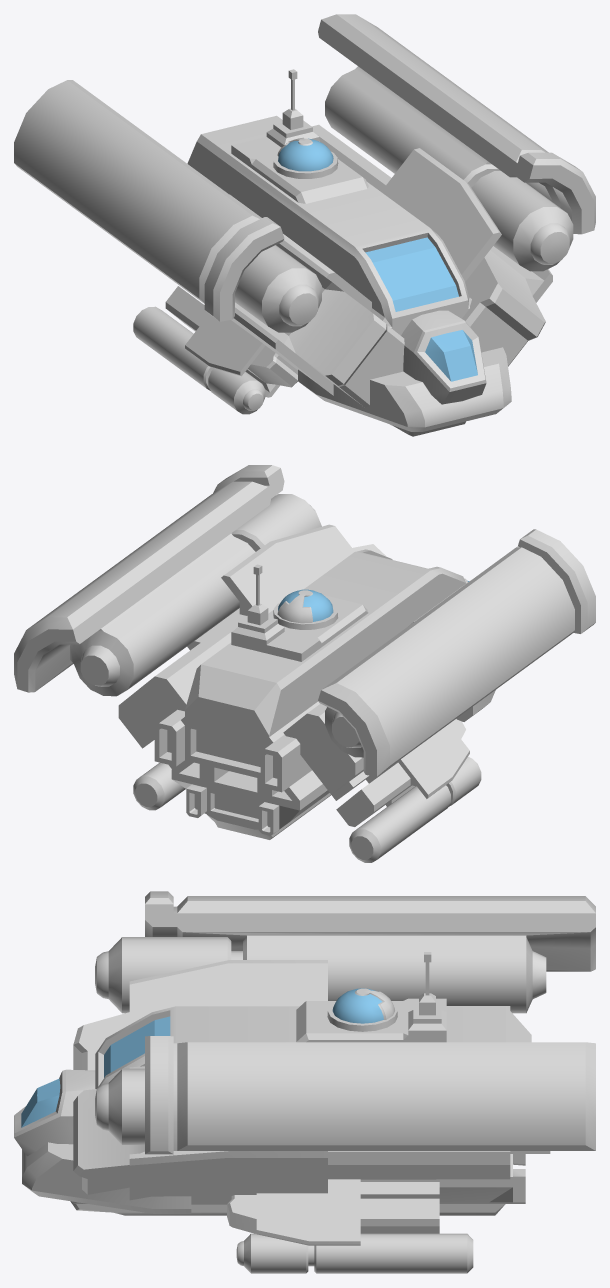
File: low-poly_ship_practice.glb
3 views of the same model, one above another, from view 1: azimuth 30°, elevation 25°; view 2: azimuth 150°, elevation 25°; view 3: azimuth 270°, elevation 25° (orthographic). The views are drawn at different scales.
Parts seen in each view (by area): view 1: Object_3, Object_2; view 2: Object_3, Object_2; view 3: Object_3, Object_2.
Boxes of the visible parts, left/top/right/bottom form: Object_3: left=14, top=14, right=595, bottom=436; Object_2: left=278, top=138, right=477, bottom=381; Object_3: left=14, top=465, right=595, bottom=862; Object_2: left=278, top=580, right=469, bottom=621; Object_3: left=14, top=891, right=595, bottom=1273; Object_2: left=21, top=988, right=383, bottom=1127.
Bounding box in the file's own units: 9.09 × 5.73 × 11.14.
